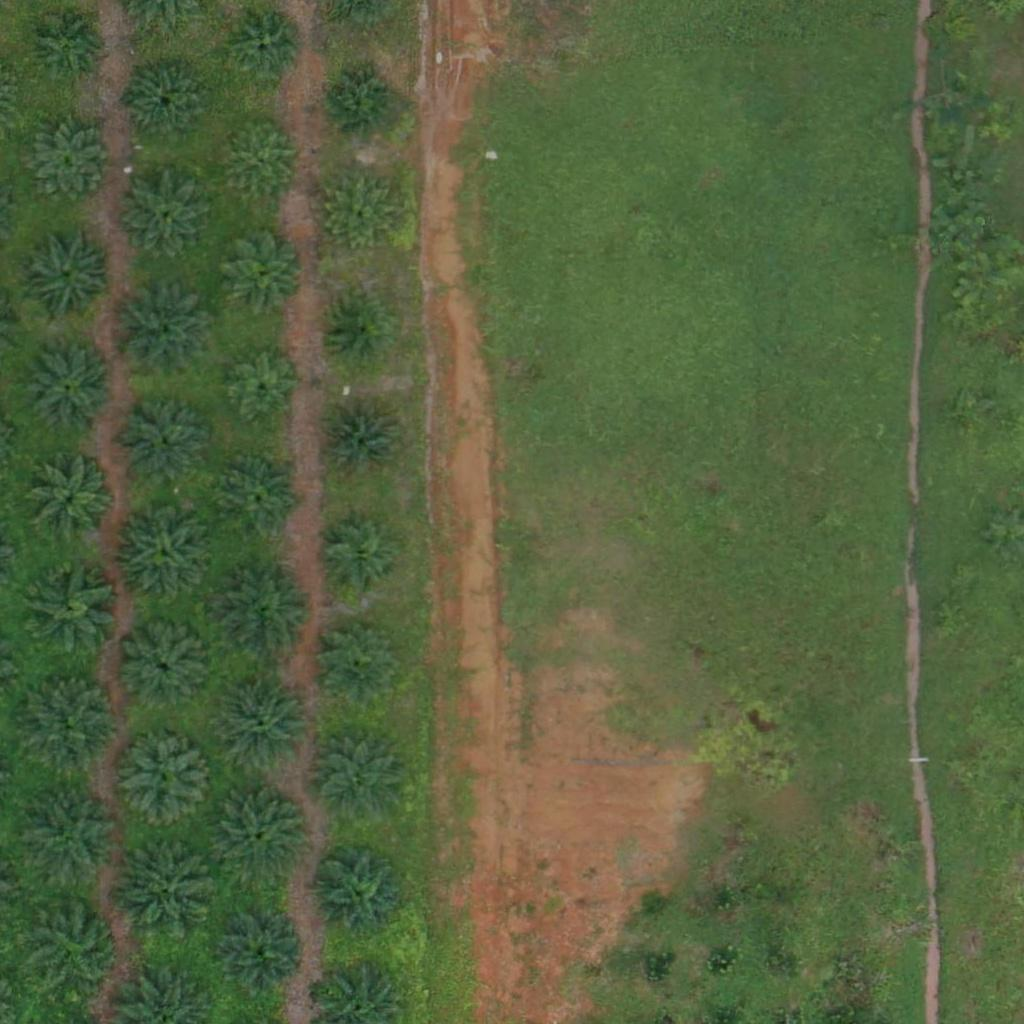Kelapa_Sawit: (110, 282, 210, 383), (15, 113, 115, 214), (15, 223, 115, 324), (19, 669, 119, 770), (24, 790, 124, 891), (115, 729, 215, 830), (114, 840, 214, 941), (217, 674, 317, 775), (210, 785, 310, 886), (309, 844, 409, 945), (213, 563, 313, 663), (113, 502, 213, 602), (19, 559, 119, 659), (27, 899, 127, 999), (125, 60, 213, 149), (121, 625, 209, 714), (315, 518, 403, 606), (218, 455, 306, 543), (120, 174, 208, 262), (119, 399, 207, 487), (215, 909, 303, 997), (216, 227, 303, 315), (319, 399, 406, 487), (24, 347, 111, 435), (27, 458, 114, 546), (315, 619, 402, 707), (315, 734, 402, 822), (229, 11, 304, 86), (227, 353, 302, 428), (319, 174, 394, 249), (326, 66, 401, 141), (221, 122, 296, 197), (324, 297, 387, 360)
